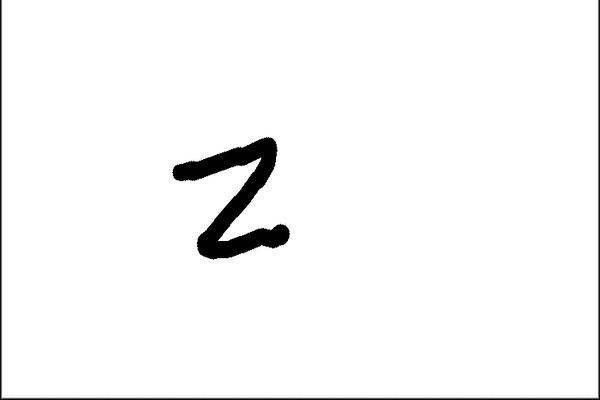Z: (166, 128, 301, 267)
